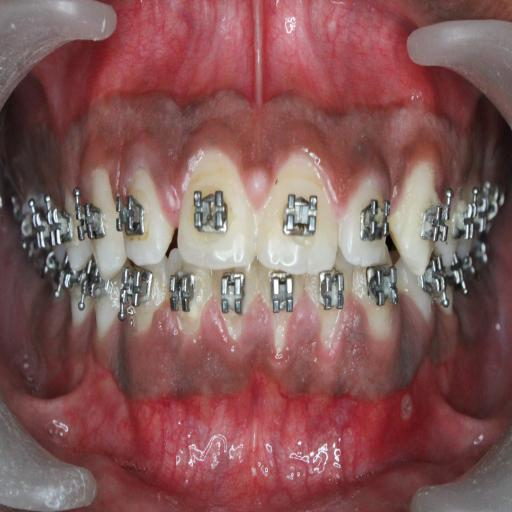correct_brace: (280, 188, 321, 246), (189, 186, 232, 241), (117, 188, 150, 242), (360, 193, 389, 247)
incorrect_brace: (116, 162, 176, 262), (340, 154, 391, 264)
